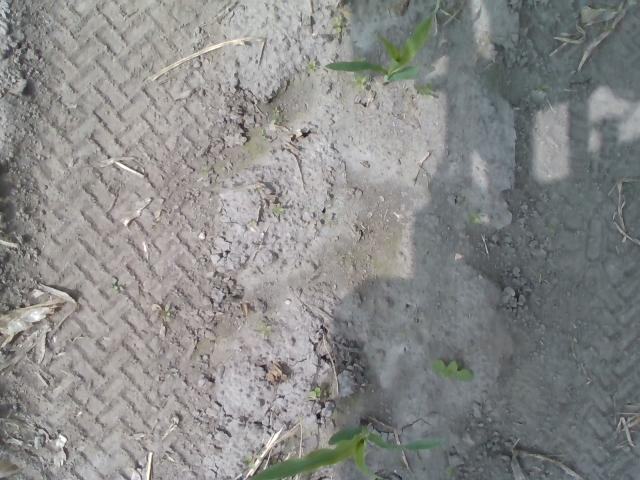Maize: (249, 430, 442, 480), (324, 18, 438, 84)
Weeds: (429, 359, 472, 383), (416, 84, 438, 99), (255, 322, 272, 337), (466, 210, 483, 225), (110, 275, 124, 293), (352, 76, 370, 89), (161, 304, 172, 322), (446, 466, 460, 480), (331, 19, 343, 34), (306, 61, 318, 73), (272, 206, 284, 216), (312, 387, 322, 398), (271, 105, 280, 113)
